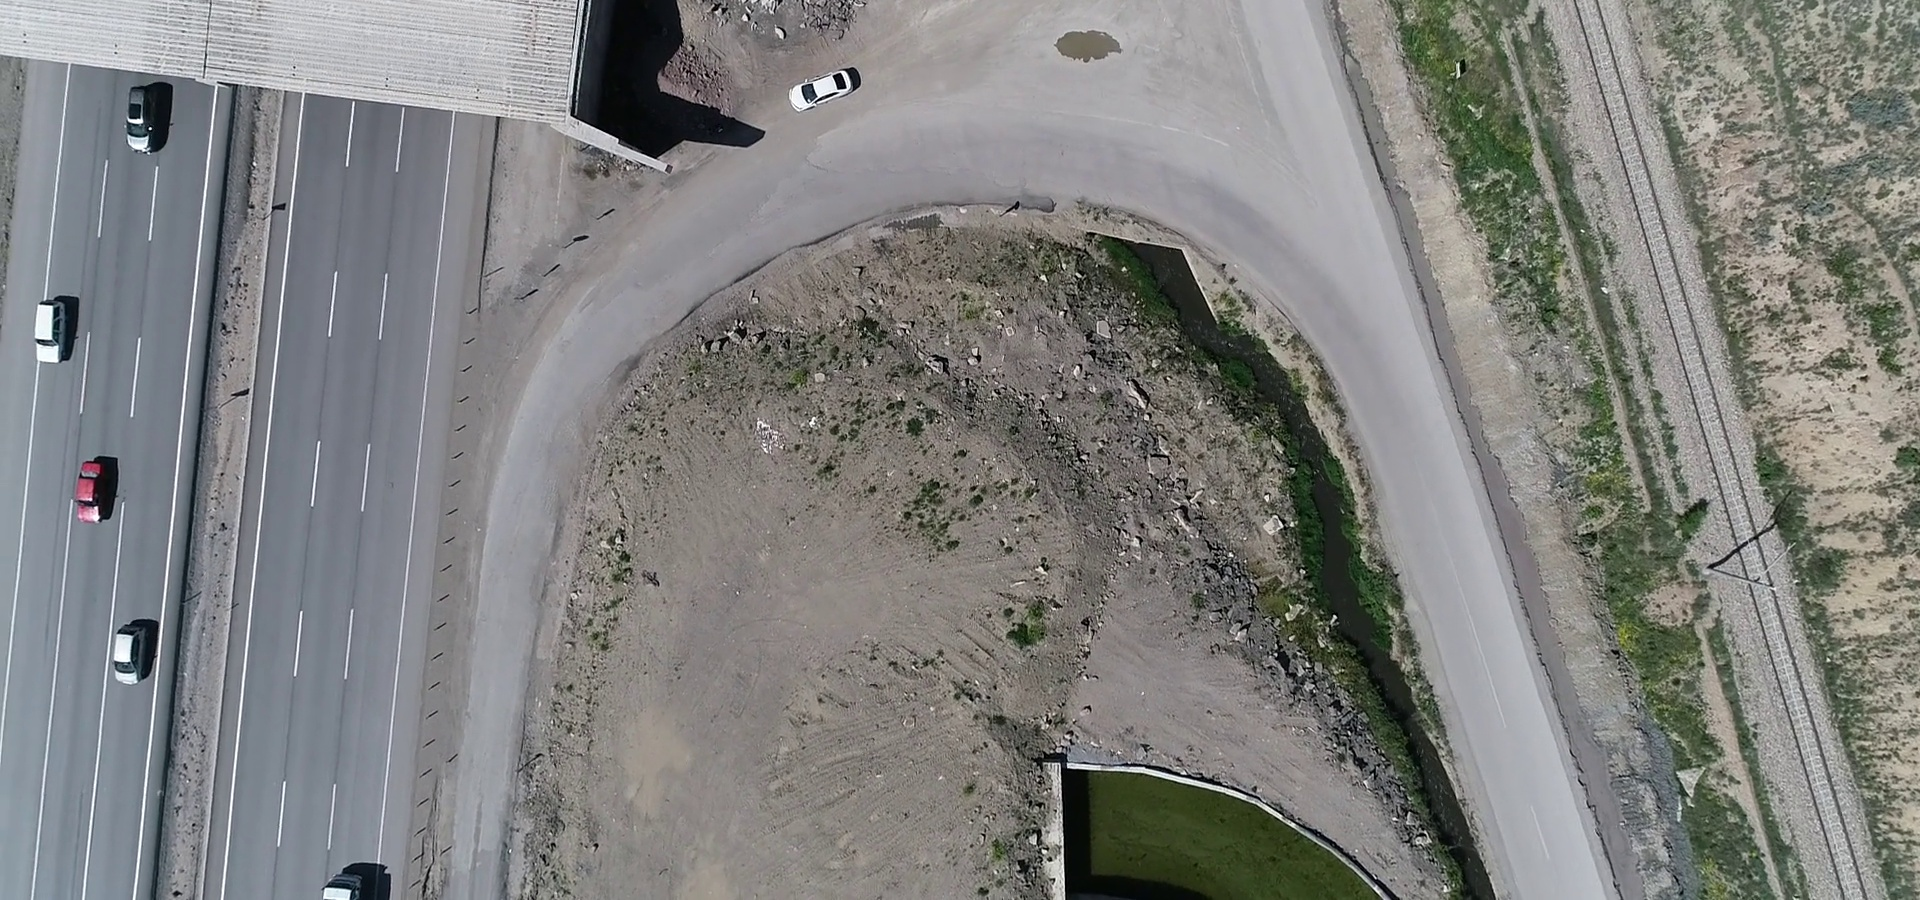arac: (100, 609, 160, 697), (66, 438, 119, 533), (782, 58, 866, 115), (26, 290, 82, 372), (125, 81, 167, 162)
